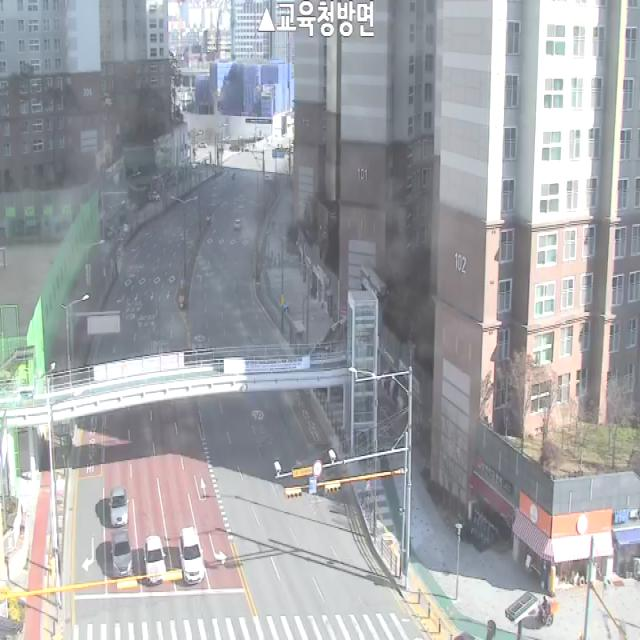Car: (180, 528, 206, 584), (110, 530, 132, 578), (144, 536, 166, 584), (109, 487, 129, 527), (234, 219, 241, 230)
